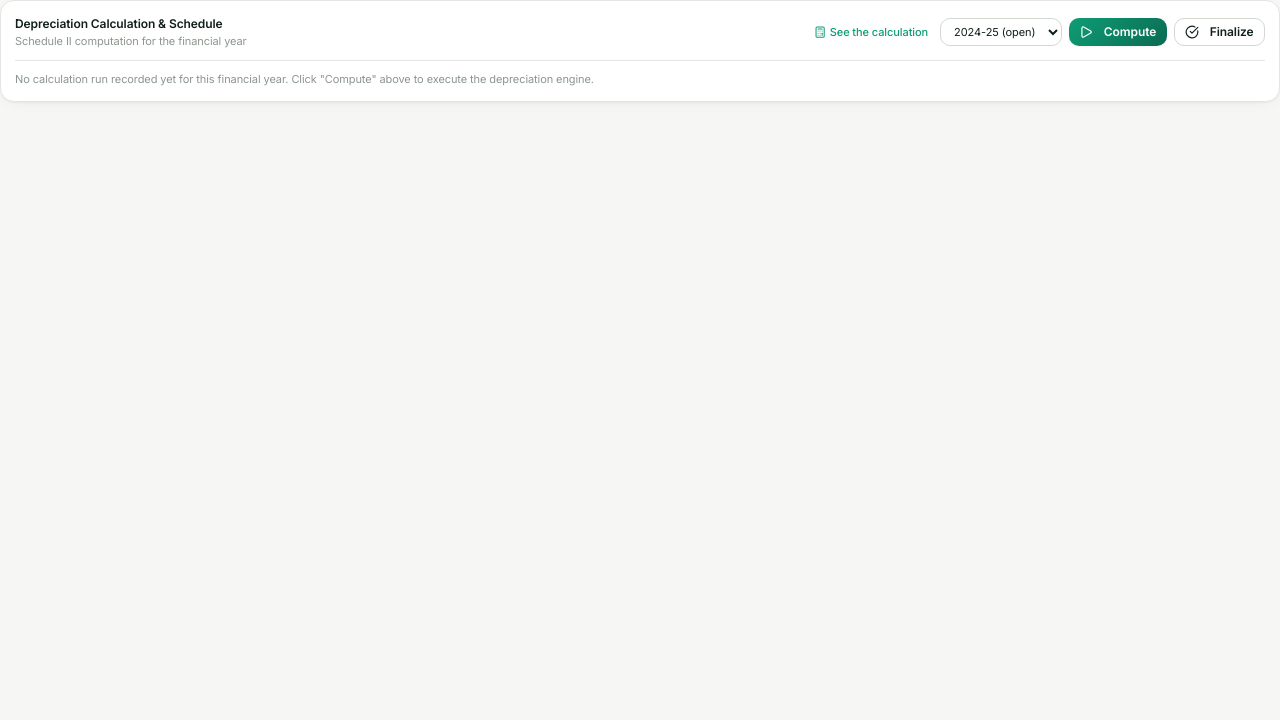
Test: DepreciationRunCard calculation drawer › projects when no run exists for the year
Click the button "See the calculation" at (871, 32), box [809,20,933,44]
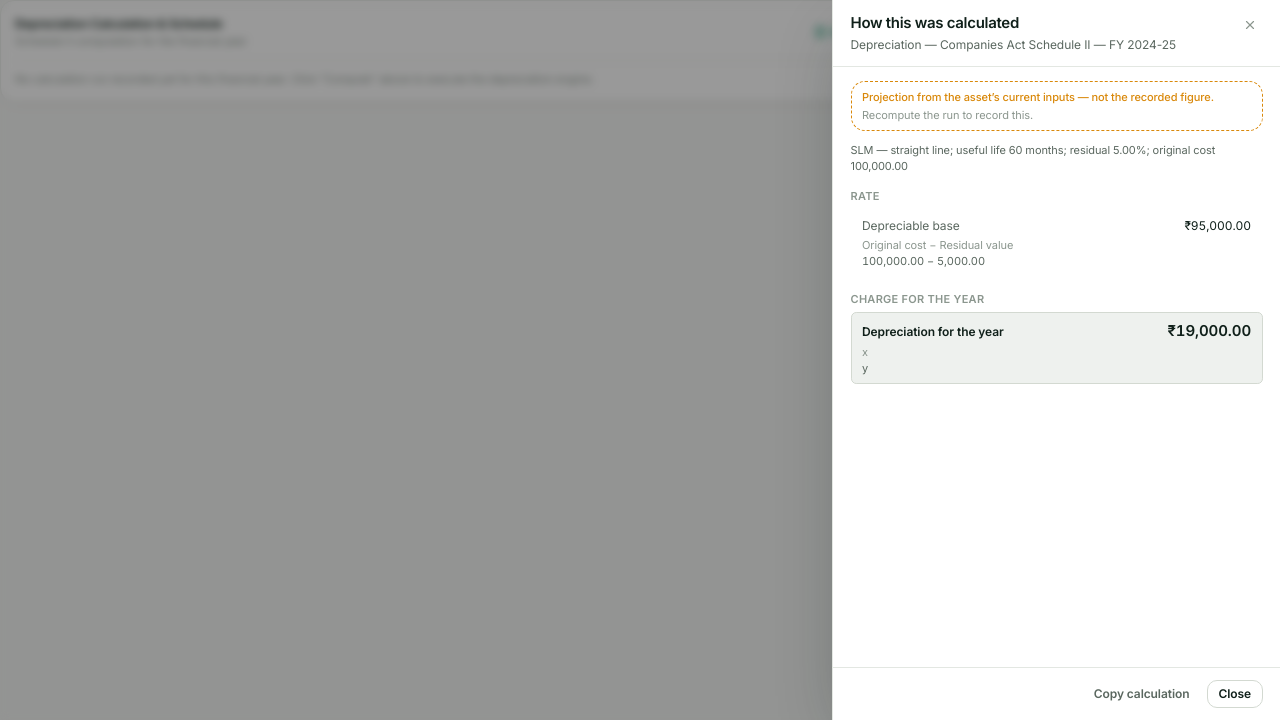
Check: the text "not the recorded figure" is shown, box [862,90,1214,104]
